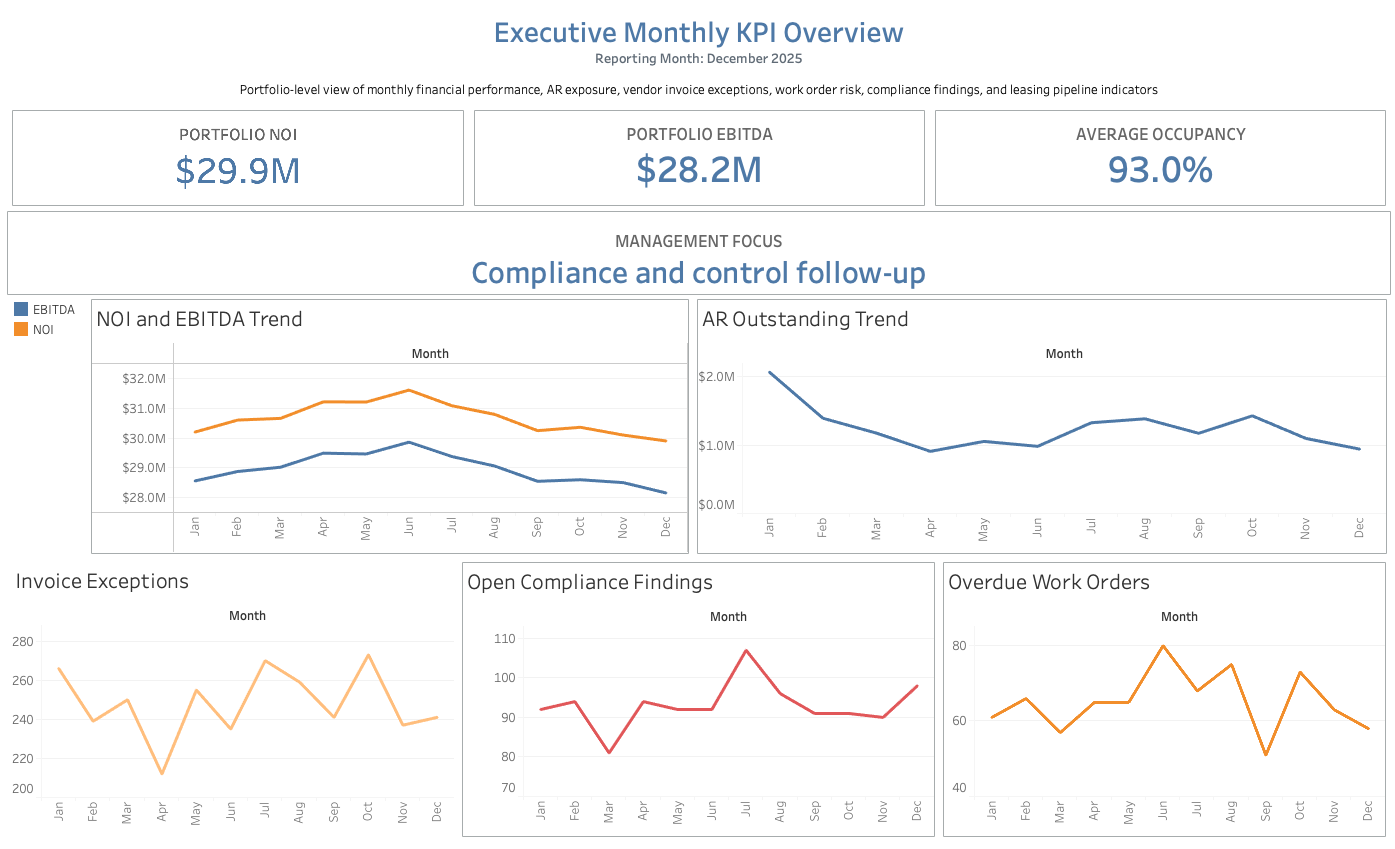

What the dashboard file says about the page in this screenshot:
{"tool":"tableau","page":{"name":"Executive Monthly KPI Overview","canvas":[1400,850],"ordinal":1},"visuals":[{"type":"title","box":[8,8,1384,66]},{"type":"text","box":[8,74,1384,32]},{"type":"worksheet","title":"NOI","mark":"Automatic","box":[8,106,462,106]},{"type":"worksheet","title":"EBITDA","mark":"Automatic","box":[470,106,461,106]},{"type":"worksheet","title":"Average Occupancy Rate","mark":"Automatic","box":[931,106,461,106]},{"type":"worksheet","title":"Primary Management Focus","mark":"Automatic","box":[8,212,1384,84]},{"type":"legend","title":"NOI and EBITDA Trend","param":"[federated.0gndcbc07r16891cth2q01hyf124].[:Measure Names]","box":[8,296,80,263]},{"type":"worksheet","title":"NOI and EBITDA Trend","mark":"Automatic","rows":["Portfolio EBITDA","Portfolio NOI"],"cols":["Month"],"box":[88,296,606,263]},{"type":"worksheet","title":"AR Outstanding Trend","mark":"Automatic","rows":["AR Outstanding Balance"],"cols":["Month"],"box":[694,296,698,263]},{"type":"worksheet","title":"Invoice Exceptions","mark":"Automatic","rows":["Invoice Exception Count"],"cols":["Month"],"box":[8,559,451.2,283]},{"type":"worksheet","title":"Open Compliance Findings","mark":"Automatic","rows":["Open Compliance Finding Count"],"cols":["Month"],"box":[459.2,559,481.2,283]},{"type":"worksheet","title":"Overdue Work Orders","mark":"Automatic","rows":["Overdue Work Order Count"],"cols":["Month"],"box":[940.4,559,451.2,283]}]}

Visuals, with their boxes in screenshot pixels (x1, y1, x2, y2), scaled from the page's 1400x850 canvas onto the 1395x849 screenshot:
title: <region>8, 8, 1387, 74</region>
text: <region>8, 74, 1387, 106</region>
"NOI" worksheet: <region>8, 106, 468, 212</region>
"EBITDA" worksheet: <region>468, 106, 928, 212</region>
"Average Occupancy Rate" worksheet: <region>928, 106, 1387, 212</region>
"Primary Management Focus" worksheet: <region>8, 212, 1387, 296</region>
"NOI and EBITDA Trend" legend: <region>8, 296, 88, 558</region>
"NOI and EBITDA Trend" worksheet: <region>88, 296, 692, 558</region>
"AR Outstanding Trend" worksheet: <region>692, 296, 1387, 558</region>
"Invoice Exceptions" worksheet: <region>8, 558, 458, 841</region>
"Open Compliance Findings" worksheet: <region>458, 558, 937, 841</region>
"Overdue Work Orders" worksheet: <region>937, 558, 1387, 841</region>
